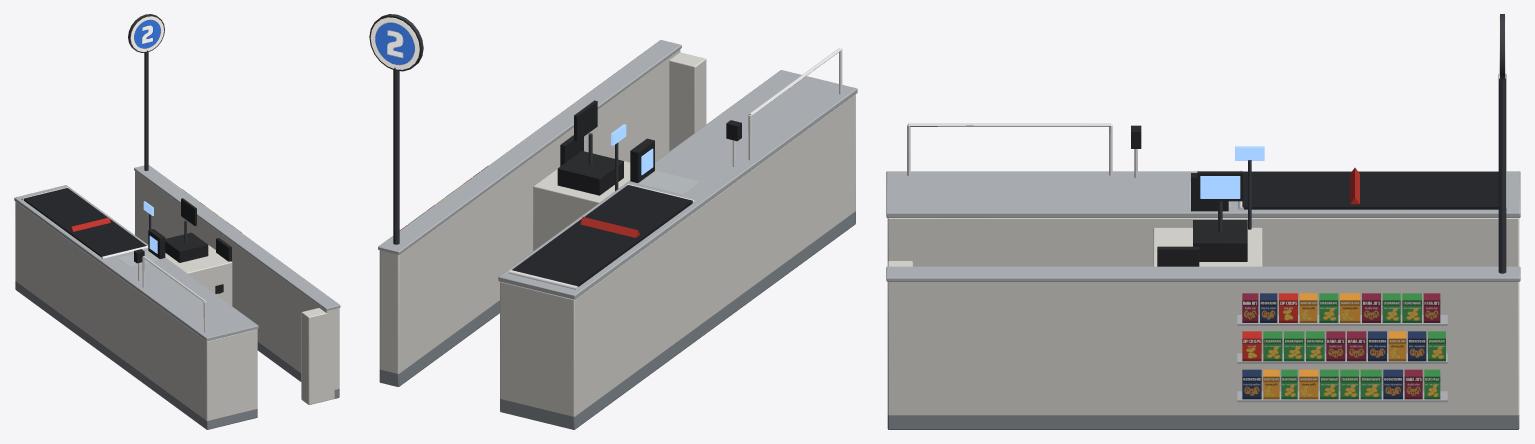
Rendered from checkout_2.glb.
3 views of the same model, side by side, from view 1: azimuth 30°, elevation 25°; view 2: azimuth 150°, elevation 25°; view 3: azimuth 270°, elevation 25° (orthographic). The views are drawn at different scales.
Visible parts, largest first — view 1: checkout_2; view 2: checkout_2; view 3: checkout_2.
Boxes of the visible parts, x1,y1,x2,y2 form: checkout_2: (14,14,340,429); checkout_2: (369,14,857,429); checkout_2: (886,14,1520,429).
Bounding box in the file's own units: 6.53 × 10.7 × 15.06.
Materials: 12 (2 with a texture image).
